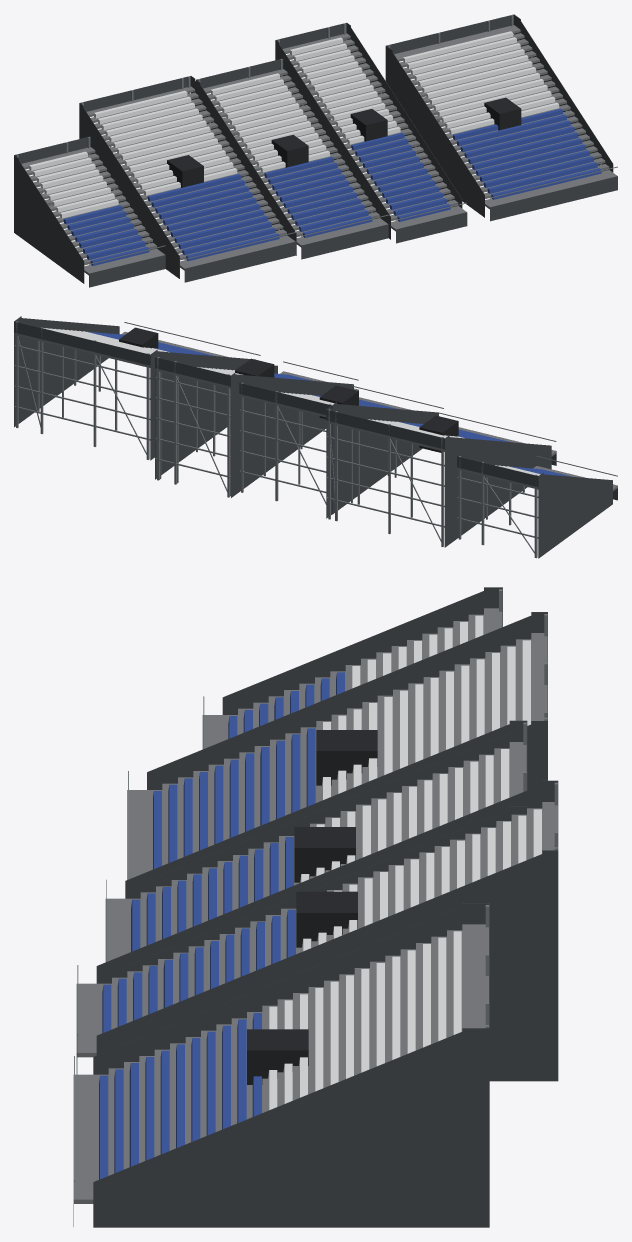
Rendered from rbr_open_t9.glb.
The picture shows the model from 3 angles, top to bottom: view 1: azimuth 30°, elevation 25°; view 2: azimuth 150°, elevation 25°; view 3: azimuth 270°, elevation 25°; orthographic projection. The views are drawn at different scales.
Parts seen in each view (by area): view 1: red-bull-ring-t9; view 2: red-bull-ring-t9; view 3: red-bull-ring-t9.
Boxes of the visible parts, box(x1,y1,x2,y2) form: red-bull-ring-t9: box(14, 14, 617, 287); red-bull-ring-t9: box(14, 316, 617, 558); red-bull-ring-t9: box(73, 587, 558, 1227).
Bounding box in the file's own units: 59.72 × 13.24 × 25.24.
